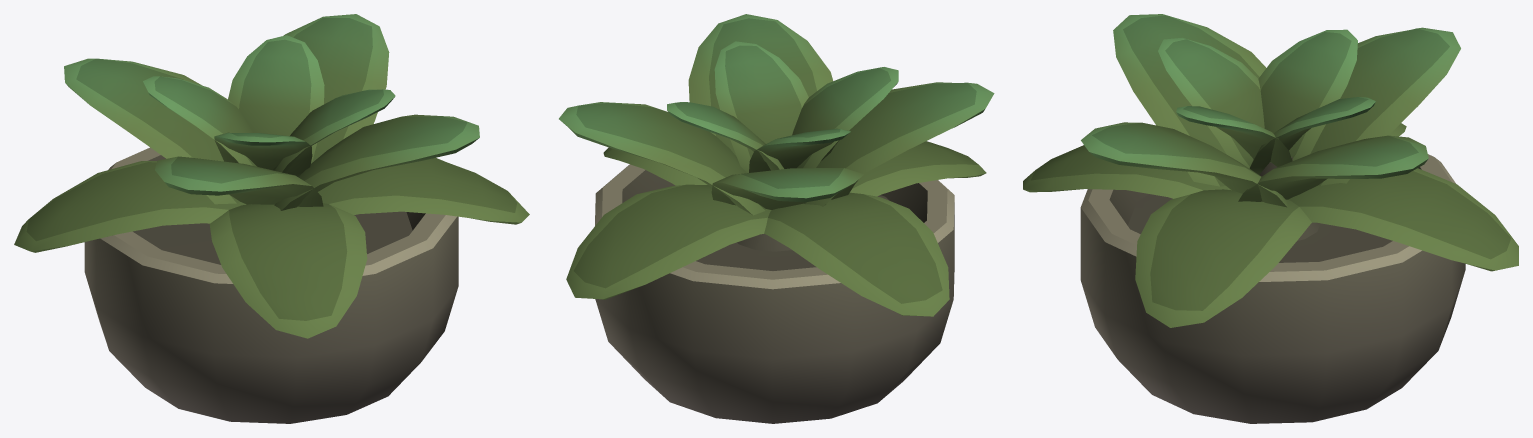
Rendered from plant1.fbx.
3 views of the same model, side by side, from view 1: azimuth 30°, elevation 25°; view 2: azimuth 150°, elevation 25°; view 3: azimuth 270°, elevation 25° (orthographic). The views are drawn at different scales.
Parts seen in each view (by area): view 1: plant.001; view 2: plant.001; view 3: plant.001.
Part boxes in pixels (<box>): plant.001: <box>14,14,529,423</box>; plant.001: <box>559,14,994,423</box>; plant.001: <box>1023,14,1518,423</box>.
Bounding box in the file's own units: 257 × 173 × 257.
